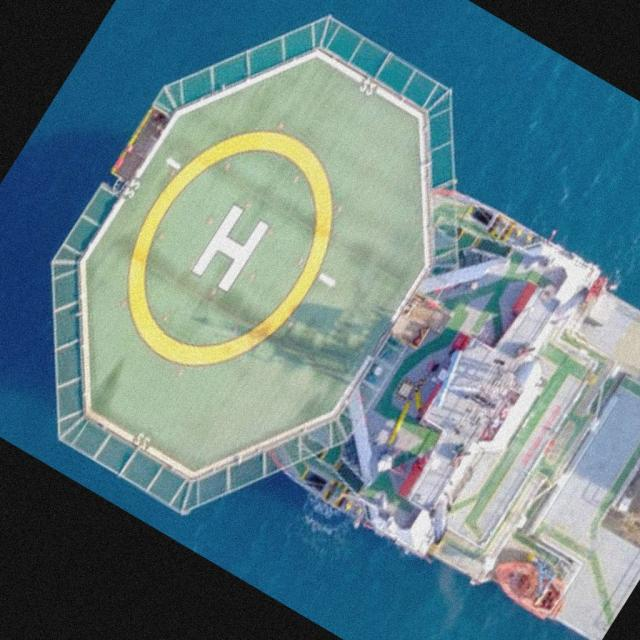helipad: (126, 128, 334, 368)
